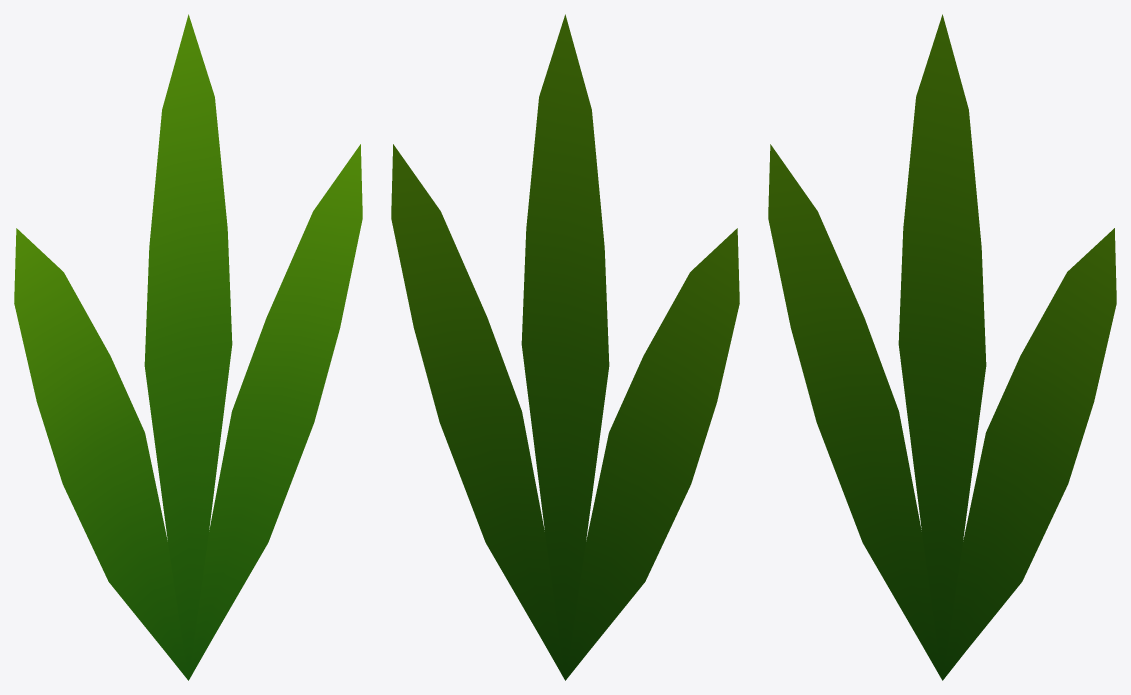
The model's file is grass_3.fbx.
The picture shows the model from 3 angles, left to right: view 1: azimuth 30°, elevation 25°; view 2: azimuth 150°, elevation 25°; view 3: azimuth 330°, elevation 25°; orthographic projection.
Visible parts, largest first — view 1: grass_3; view 2: grass_3; view 3: grass_3.
Part boxes in pixels (x1,y1,x2,y2): grass_3: (14,14,362,680); grass_3: (391,14,739,680); grass_3: (768,14,1116,680).
Bounding box in the file's own units: 0.3167 × 0.5788 × 9.54e-07.
